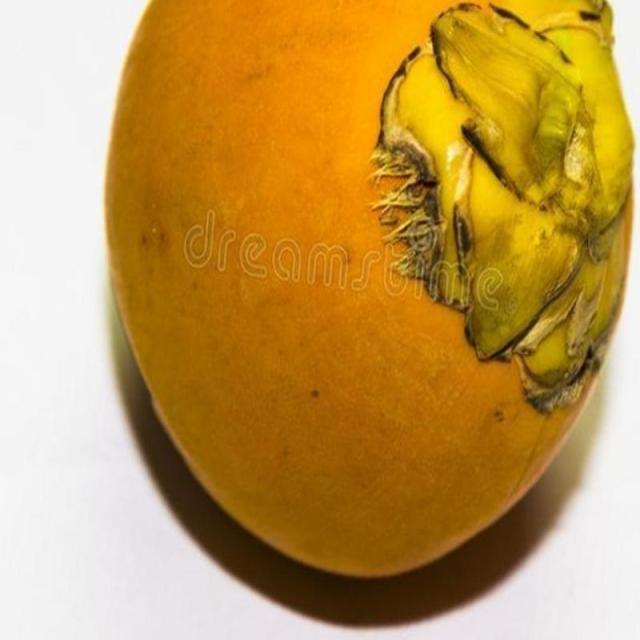good: (102, 0, 639, 584)
